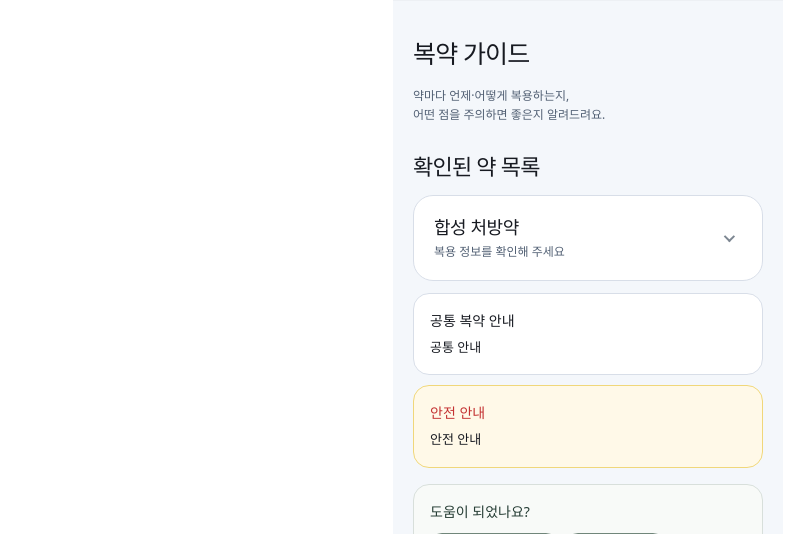
GuidePage › 알려지지 않은 의료 라벨은 섹션 shell을 유지하고 추가 원문으로만 보존한다
The width and height of the screenshot is (800, 534).
Click the button "합성 처방약 복용 정보를 확인해 주세요" at x=476, y=227, box [414,196,762,280]
(page scrolled)
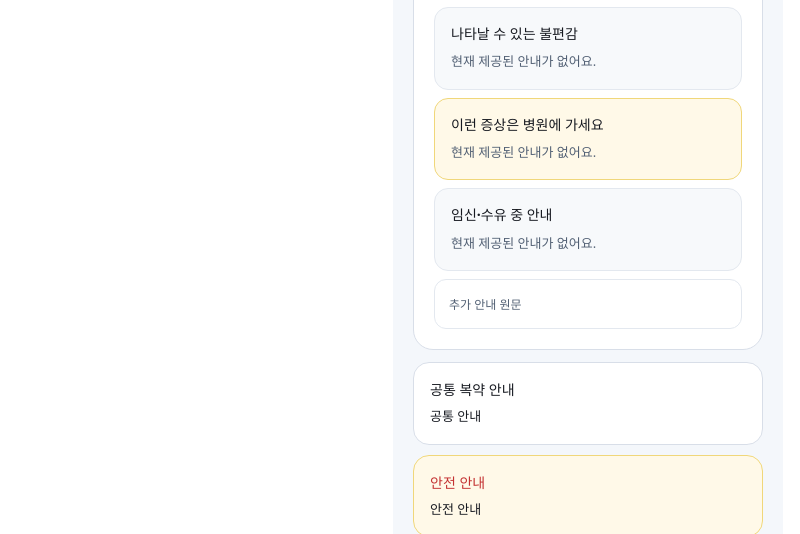
expect the text "현재 제공된 안내가 없어요." is shown 6 times: met
Click the heading "추가 안내 원문" at x=485, y=305, box [449,296,522,313]
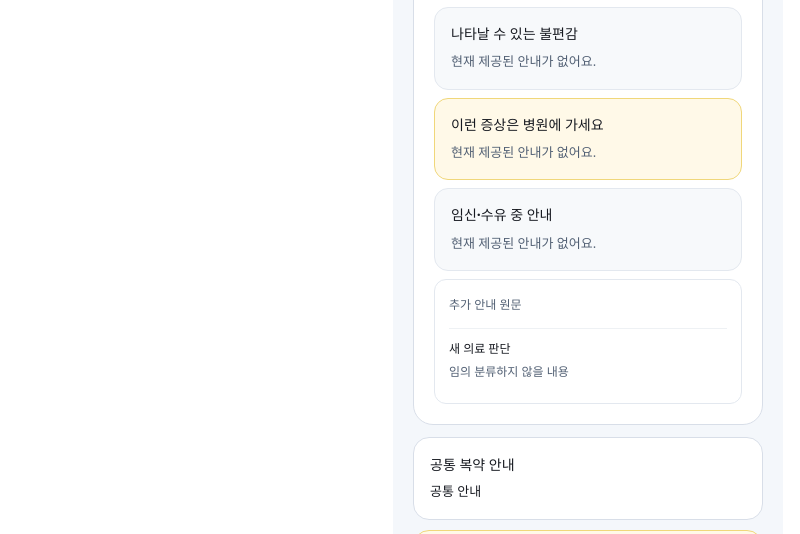
expect the text "새 의료 판단" is shown: met, box [449,340,510,357]
expect the text "임의 분류하지 않을 내용" is shown: met, box [449,363,569,380]
